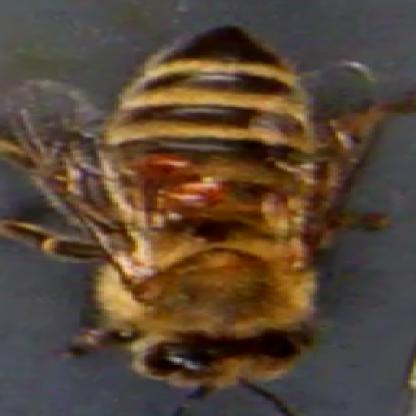bee: (99, 20, 331, 416)
vaoora: (163, 183, 226, 209), (124, 152, 182, 172)
